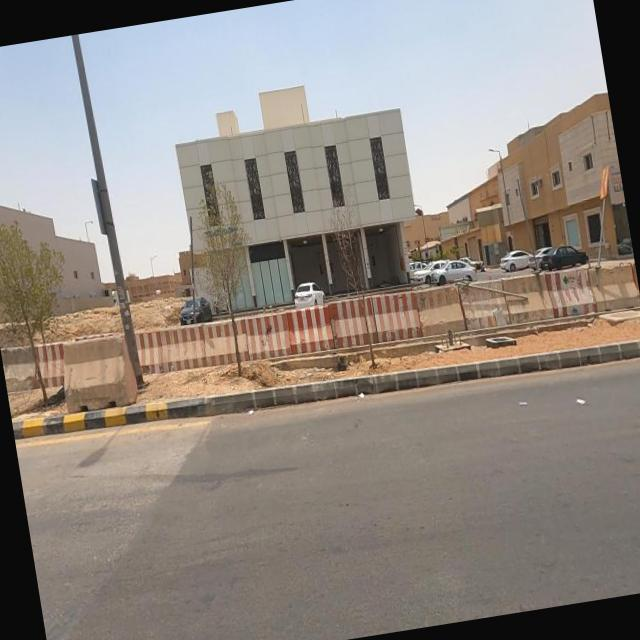debris: (558, 372, 608, 439), (332, 368, 386, 424), (230, 386, 276, 432)
